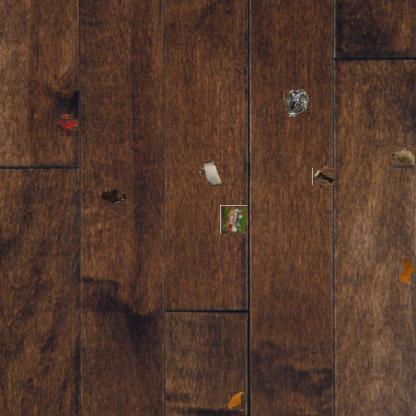dirty: (220, 205, 247, 234), (284, 89, 312, 116), (392, 146, 416, 170), (199, 161, 223, 185), (396, 256, 416, 284), (314, 166, 334, 187), (59, 116, 75, 134)
liquid: (98, 186, 126, 206), (227, 392, 245, 410)
